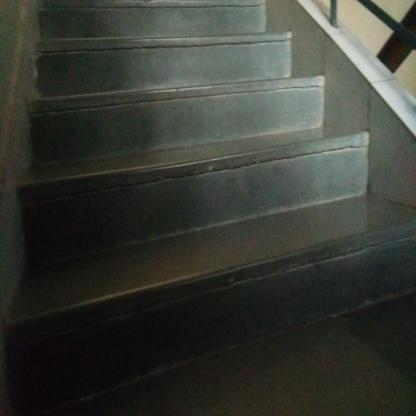stairs: (40, 10, 275, 416)
